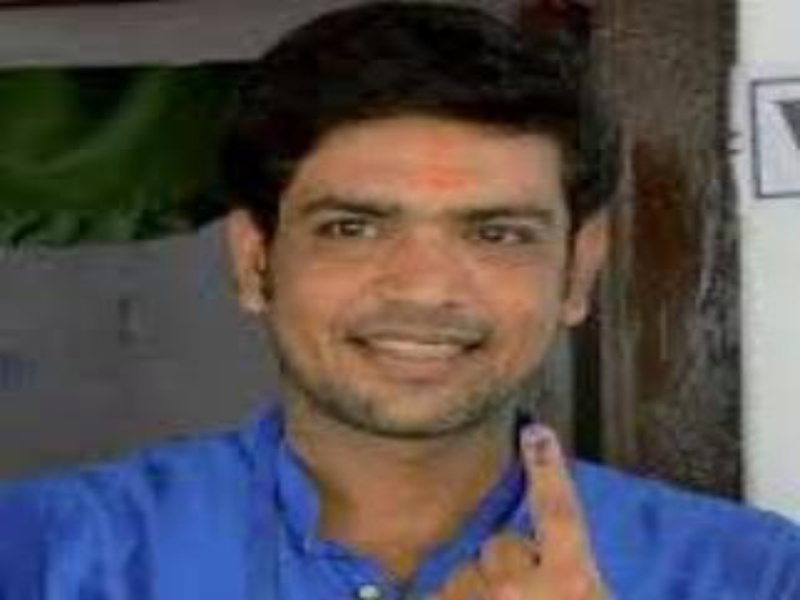TsisyArotava: (219, 5, 631, 471)
